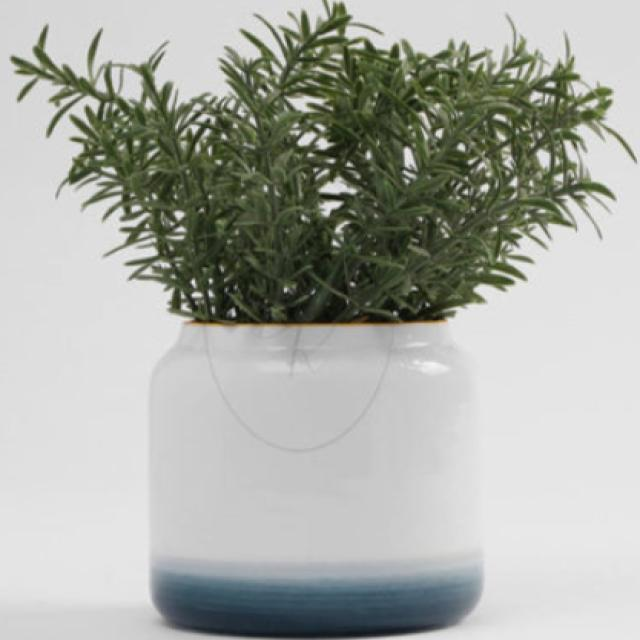Plant Pot: (124, 315, 545, 634)
